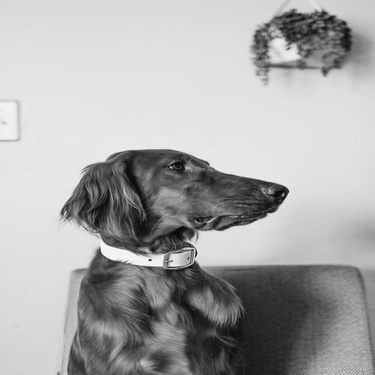dog: (49, 141, 291, 373)
